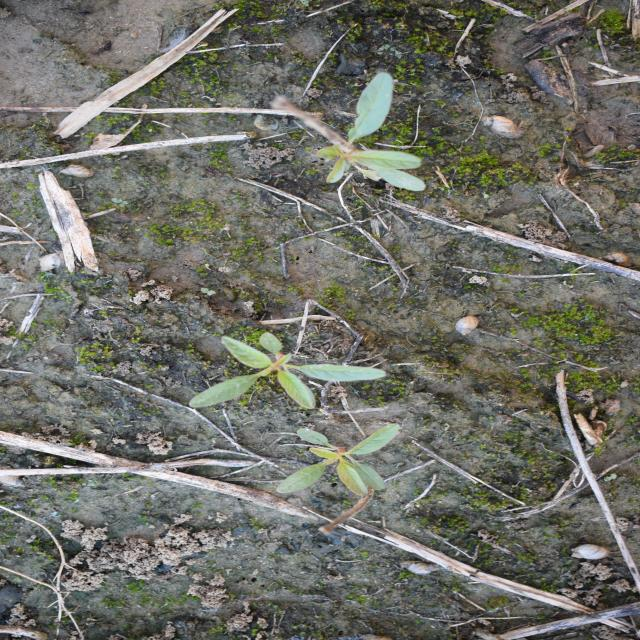Waterhemp: (186, 330, 389, 411), (314, 72, 429, 194), (272, 422, 402, 499)
